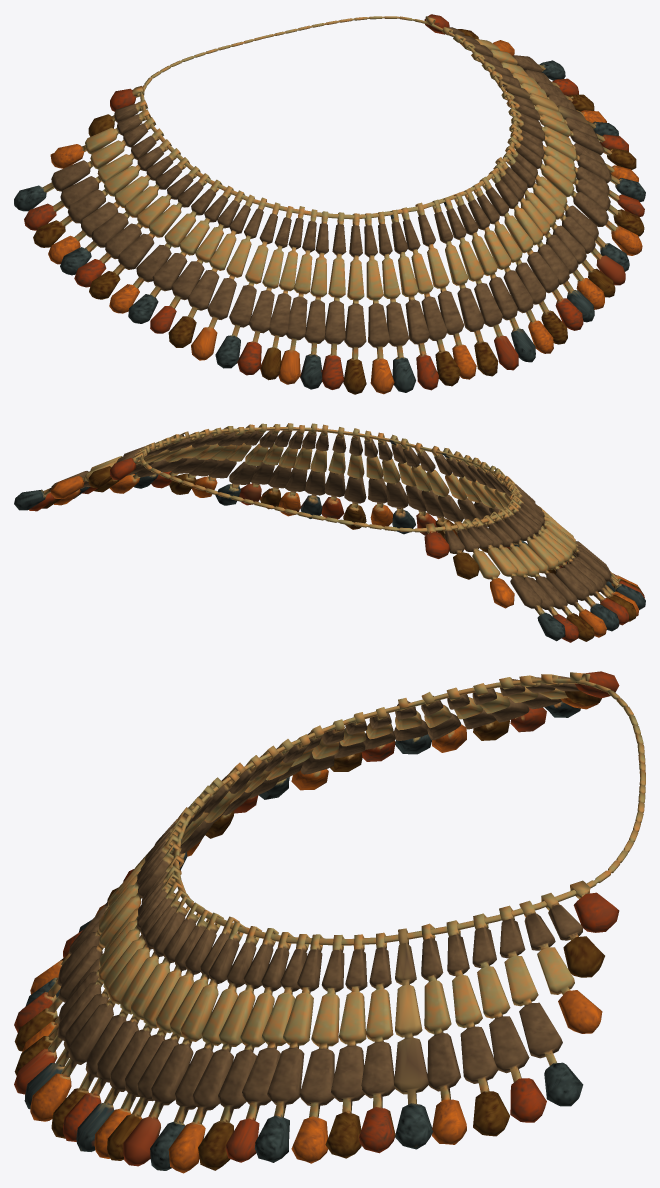
File: egyptian_necklace.glb
3 renders of one model, top to bottom at view 1: azimuth 30°, elevation 25°; view 2: azimuth 150°, elevation 25°; view 3: azimuth 270°, elevation 25°, orthographic. The views are drawn at different scales.
Parts seen in each view (by area): view 1: Object_2; view 2: Object_2; view 3: Object_2.
Part boxes in pixels (x1=…): Object_2: x1=14, y1=14, x2=645, y2=394; Object_2: x1=14, y1=423, x2=645, y2=642; Object_2: x1=14, y1=671, x2=645, y2=1173.
Bounding box in the file's own units: 4.69 × 1.57 × 3.07.
Materials: 1 (1 with a texture image).
